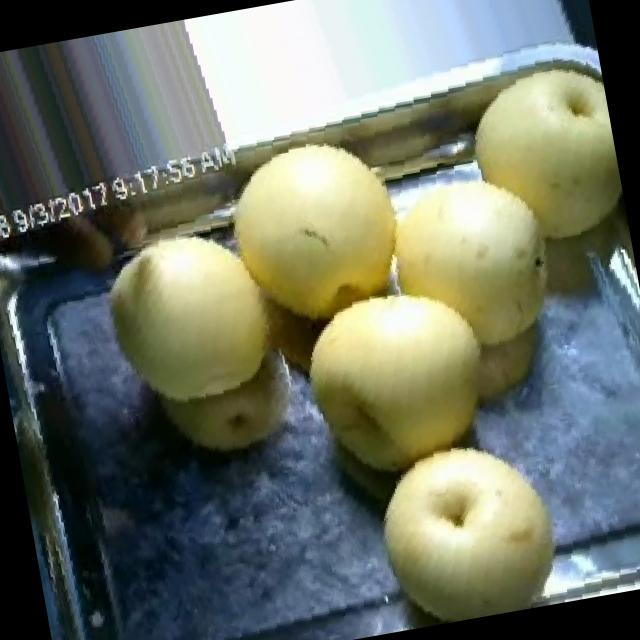Fruit: (271, 258, 525, 518), (192, 110, 448, 367), (74, 202, 310, 438), (359, 148, 584, 378), (354, 412, 586, 632), (444, 39, 631, 267)
